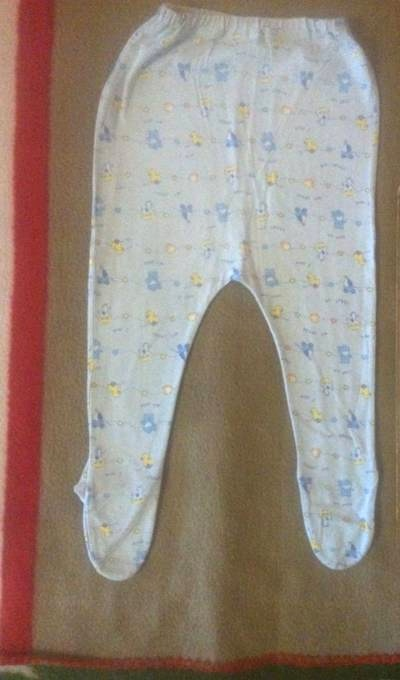Pants: (72, 18, 393, 580)
